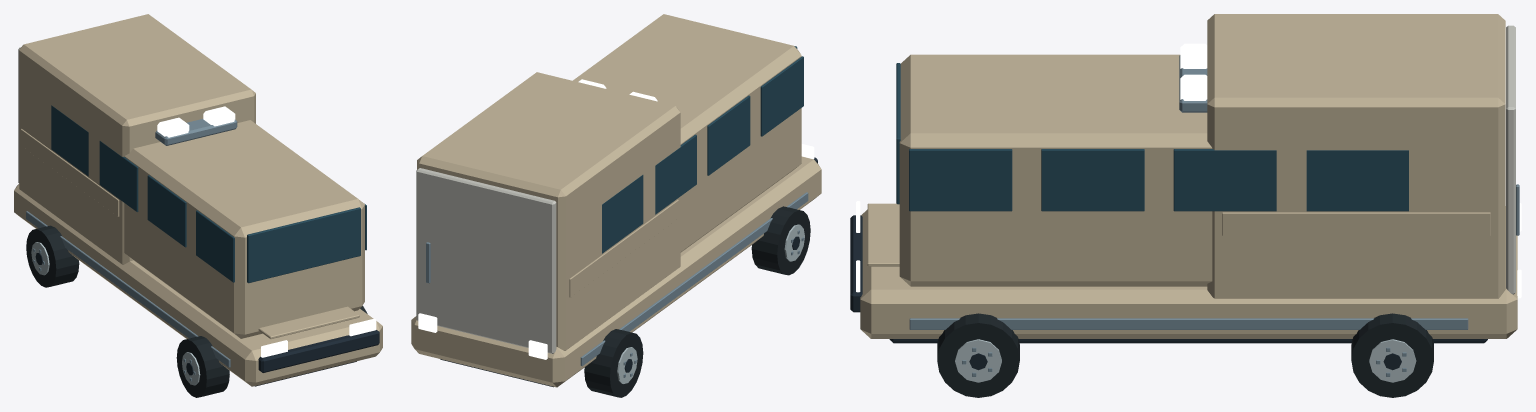
File: road-ambulance.lod0.glb
3 views of the same model, side by side, from view 1: azimuth 30°, elevation 25°; view 2: azimuth 150°, elevation 25°; view 3: azimuth 270°, elevation 25° (orthographic). The views are drawn at different scales.
Parts seen in each view (by area): view 1: road-ambulance__body, road-ambulance__wheel_steer_0_l, road-ambulance__wheel_steer_1_l; view 2: road-ambulance__body, road-ambulance__cargo_door, road-ambulance__wheel_steer_0_l, road-ambulance__wheel_steer_1_l; view 3: road-ambulance__body, road-ambulance__wheel_steer_1_r, road-ambulance__wheel_steer_0_r, road-ambulance__cargo_door.
Part boxes in pixels (x1,y1,x2,y2): road-ambulance__body: (14, 14, 382, 386); road-ambulance__wheel_steer_0_l: (176, 336, 229, 397); road-ambulance__wheel_steer_1_l: (26, 225, 79, 287); road-ambulance__body: (411, 14, 821, 387); road-ambulance__cargo_door: (416, 168, 556, 353); road-ambulance__wheel_steer_0_l: (751, 206, 810, 275); road-ambulance__wheel_steer_1_l: (584, 329, 643, 397); road-ambulance__body: (850, 14, 1521, 343); road-ambulance__wheel_steer_1_r: (1351, 313, 1433, 397); road-ambulance__wheel_steer_0_r: (937, 313, 1019, 397); road-ambulance__cargo_door: (1506, 25, 1519, 294).
Size of the model in its own units: 2.25 by 2.59 by 5.51.
